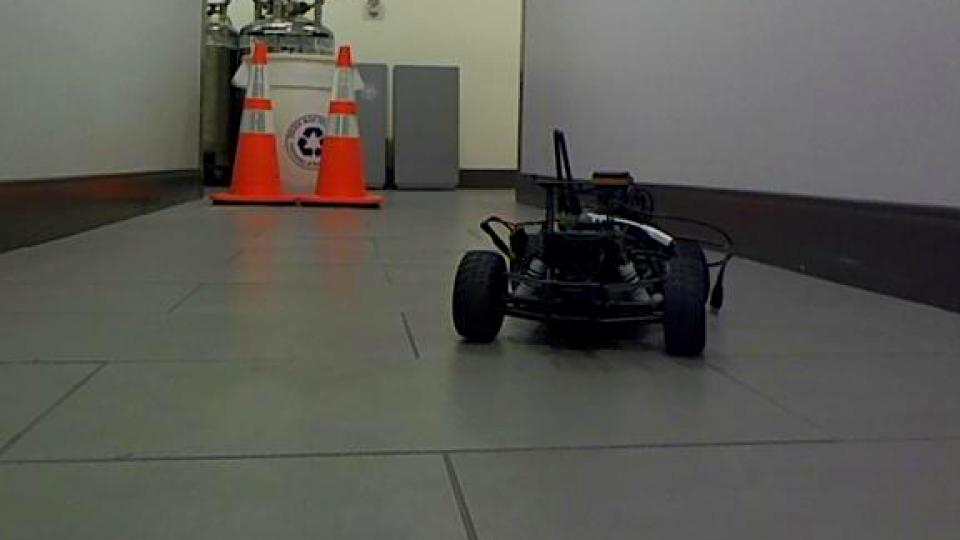car: (449, 127, 738, 358)
